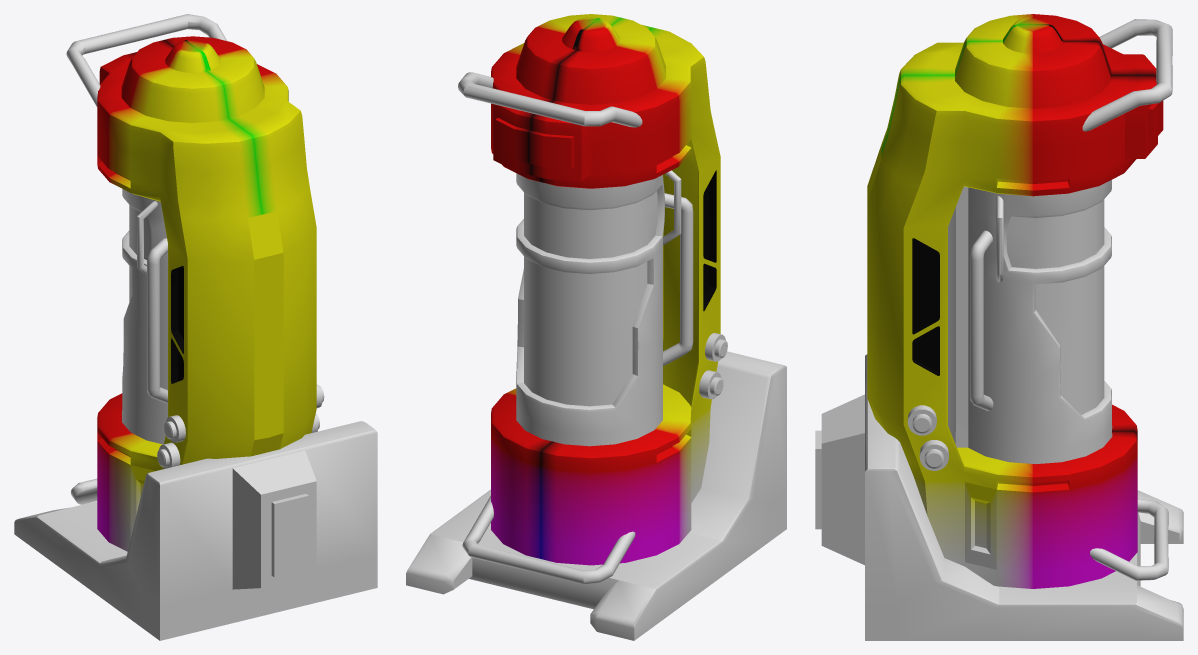
Rendered from battery.fbx.
3 views of the same model, side by side, from view 1: azimuth 30°, elevation 25°; view 2: azimuth 150°, elevation 25°; view 3: azimuth 270°, elevation 25° (orthographic). The views are drawn at different scales.
Parts seen in each view (by area): view 1: Cylinder006; view 2: Cylinder006; view 3: Cylinder006.
Part boxes in pixels (x1,y1,x2,y2): Cylinder006: (14,14,377,640); Cylinder006: (406,14,786,640); Cylinder006: (815,14,1183,640).
Bounding box in the file's own units: 42.37 × 95.09 × 56.79.
